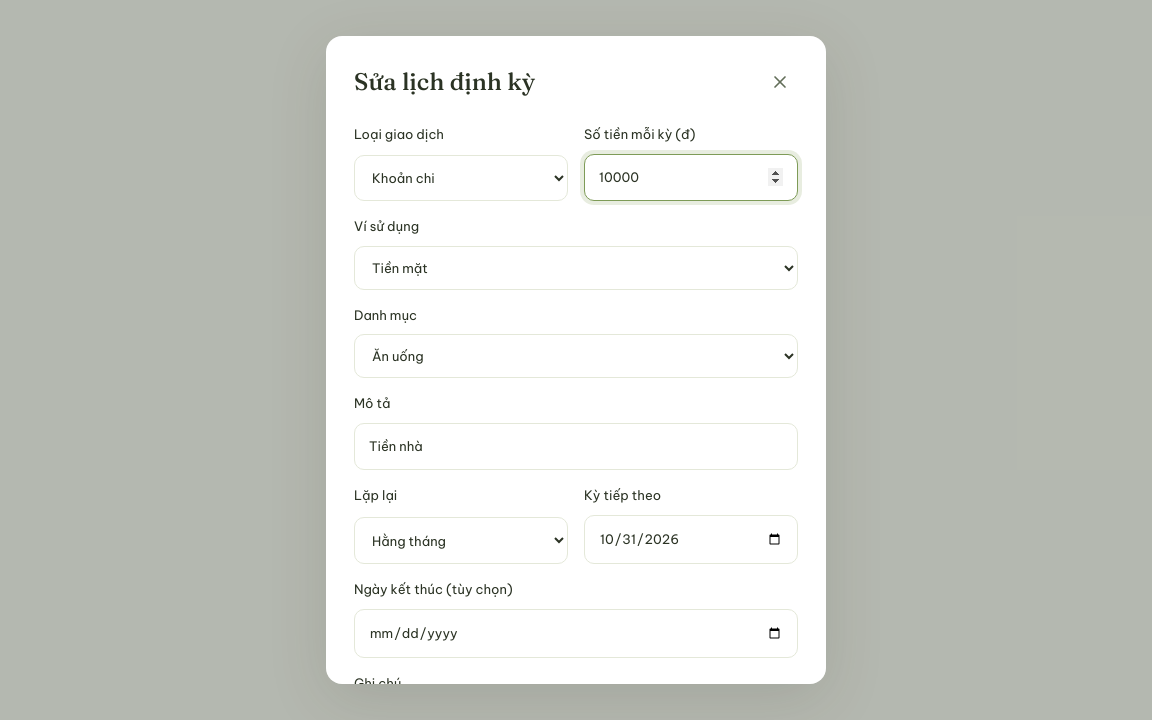
định kỳ chặn ngày kết thúc trước kỳ tiếp theo
Type "2026-10-01" into the date field labelled "Ngày kết thúc (tùy chọn)" at (576, 633), box [354,608,798,658]
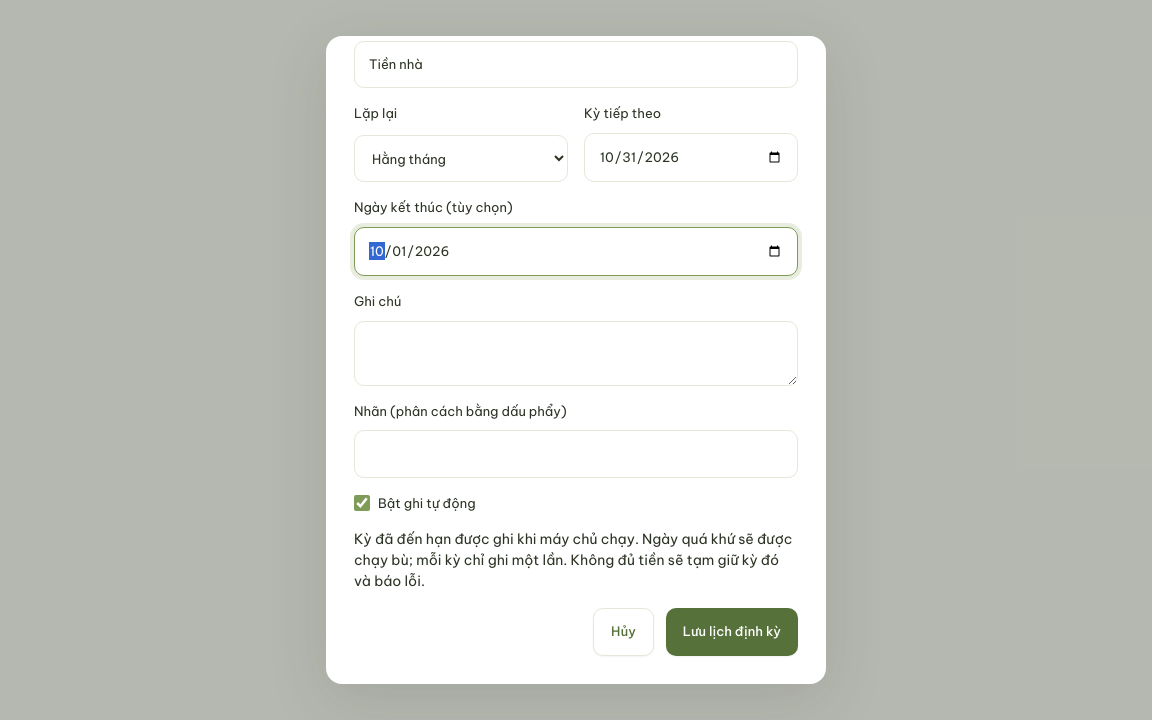
Click the button "Lưu lịch định kỳ" at (732, 632), box [666,608,798,656]
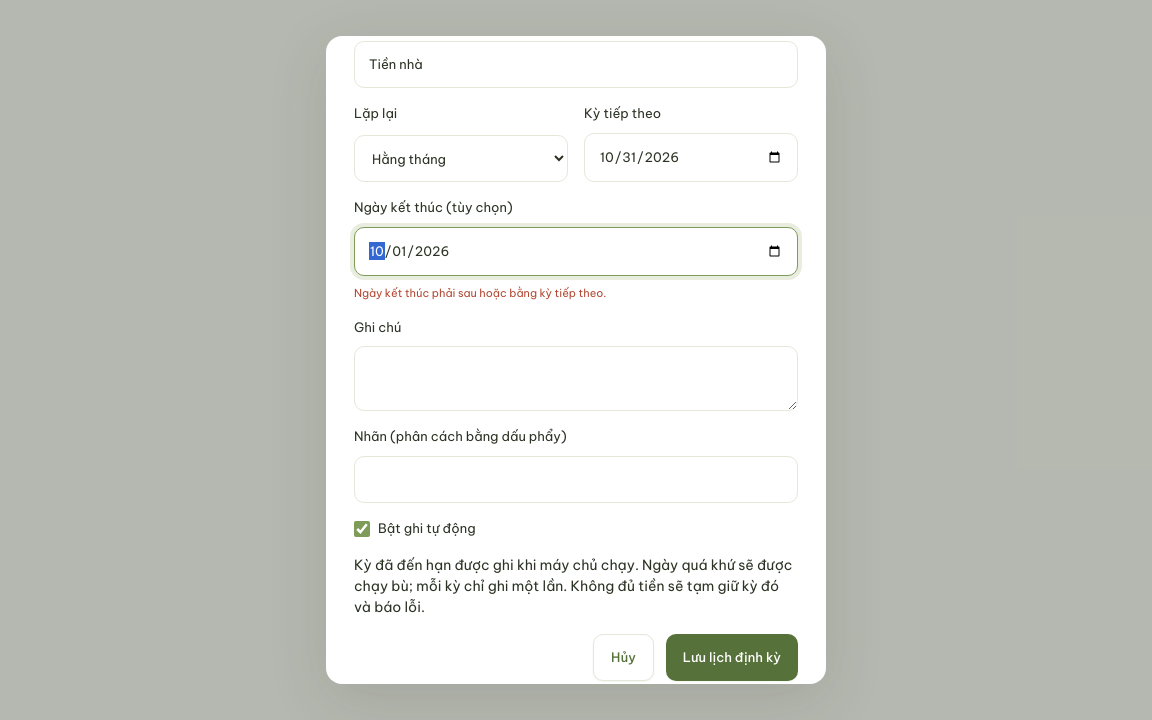
Now the text "Ngày kết thúc phải sau hoặc bằng kỳ tiếp theo." is shown, box [354,286,606,300]
